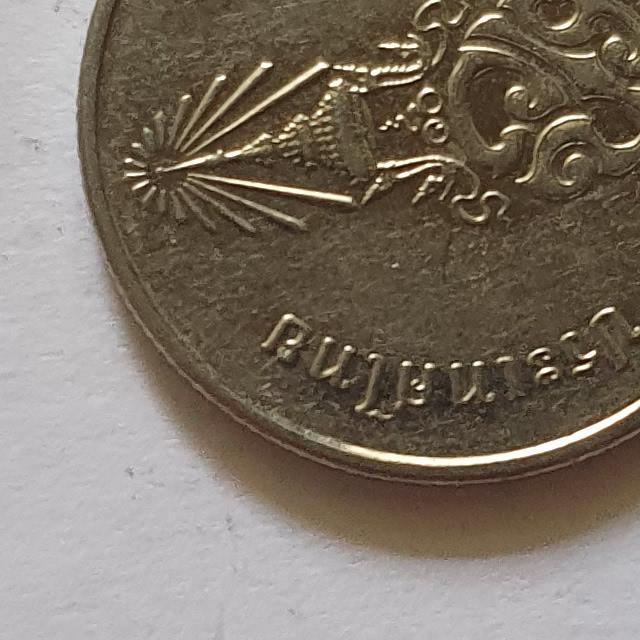1 Bath: (71, 1, 640, 495)
